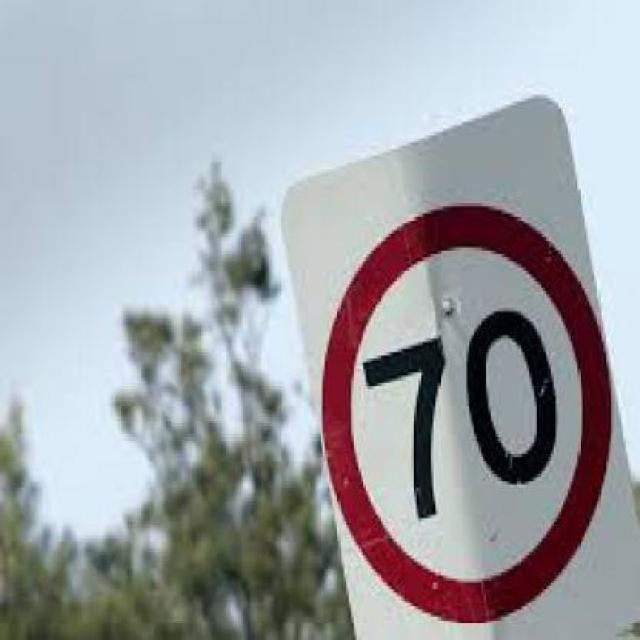forb_speed_over_70: (319, 213, 606, 604)
